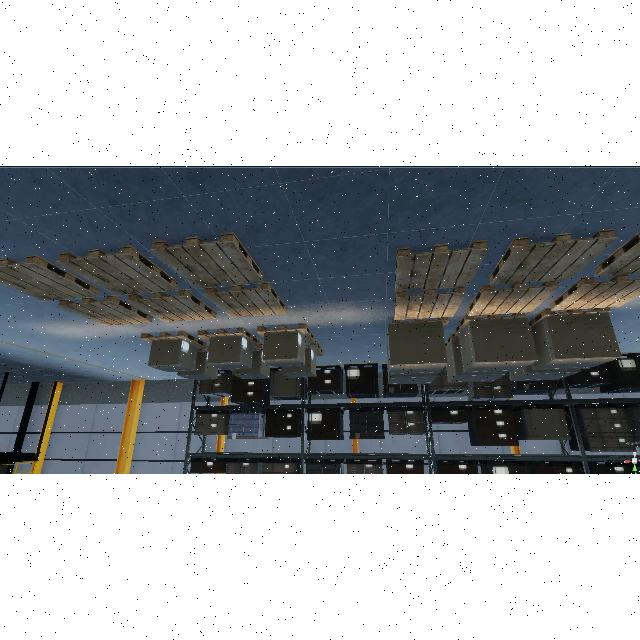wooden_pallet: (488, 228, 617, 285), (150, 231, 265, 288), (55, 245, 178, 295), (394, 241, 489, 292), (0, 255, 100, 301), (549, 274, 640, 311), (466, 281, 560, 316), (203, 283, 288, 319), (58, 296, 153, 326), (127, 291, 216, 323), (394, 287, 466, 320), (529, 307, 611, 328), (454, 313, 526, 336), (140, 331, 207, 350), (255, 323, 316, 343), (196, 327, 260, 346), (305, 342, 325, 356)
